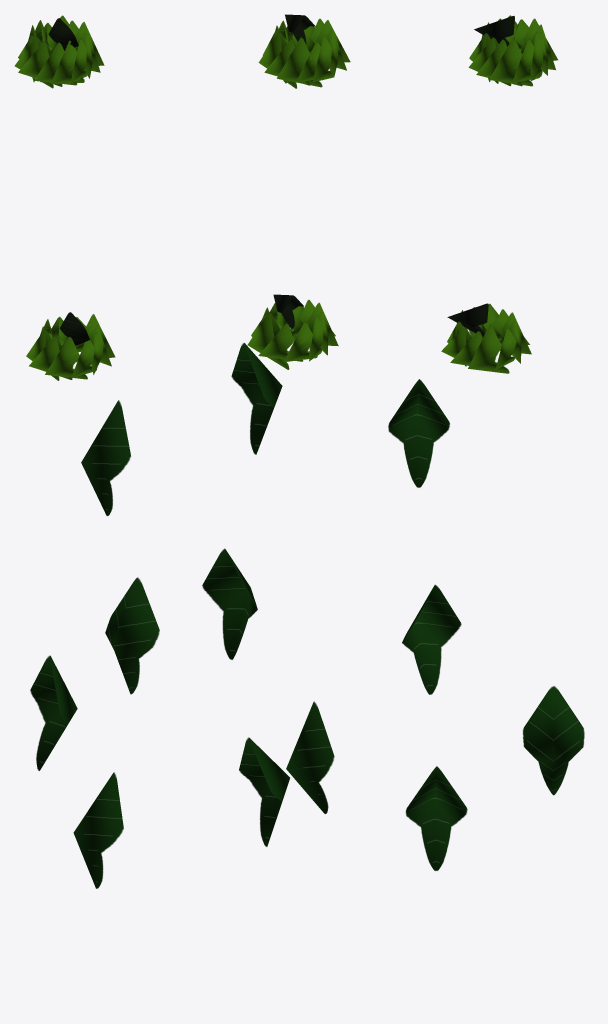
Rendered from Herb_BlackeyedSusan.glb.
3 views of the same model, side by side, from view 1: azimuth 30°, elevation 25°; view 2: azimuth 210°, elevation 25°; view 3: azimuth 270°, elevation 25° (orthographic). The views are drawn at different scales.
Visible parts, largest first — view 1: Herb_BlackeyedSusan; view 2: Herb_BlackeyedSusan; view 3: Herb_BlackeyedSusan.
Boxes of the visible parts, box(x1,y1,x2,y2) form: Herb_BlackeyedSusan: box(14, 15, 159, 888); Herb_BlackeyedSusan: box(202, 14, 350, 846); Herb_BlackeyedSusan: box(388, 15, 584, 870).
Bounding box in the file's own units: 0.0798 × 0.8253 × 0.1613.
1 material, 1 textured.
